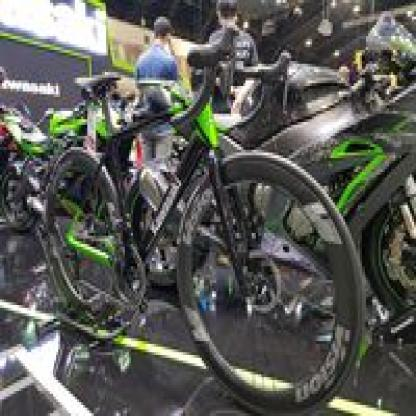Bike: (40, 43, 367, 416)
